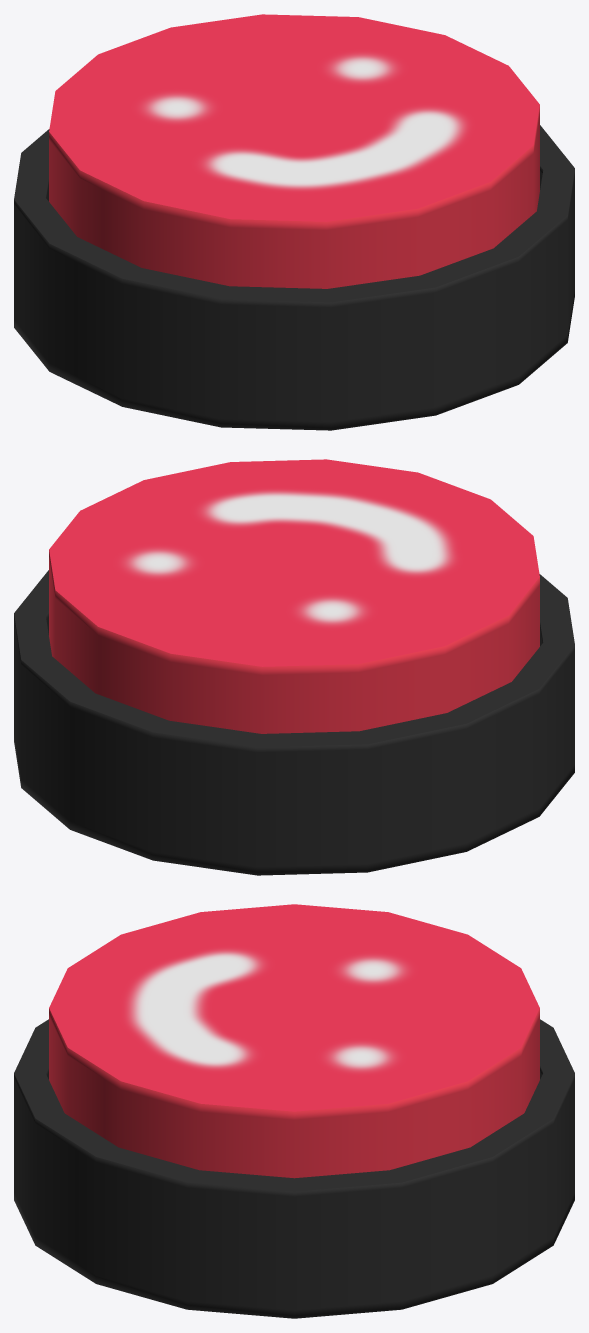
File: BigIconButton.fbx
3 views of the same model, one above another, from view 1: azimuth 30°, elevation 25°; view 2: azimuth 150°, elevation 25°; view 3: azimuth 270°, elevation 25° (orthographic).
Visible parts, largest first — view 1: Button, Frame; view 2: Button, Frame; view 3: Button, Frame.
Boxes of the visible parts, <box> form: Button: <box>49,14,539,288</box>; Frame: <box>14,125,574,430</box>; Button: <box>49,459,539,733</box>; Frame: <box>14,570,574,875</box>; Button: <box>49,904,539,1178</box>; Frame: <box>14,1019,574,1318</box>.
Size of the model in its own units: 8 by 3.02 by 8.
3 materials, 1 textured.
